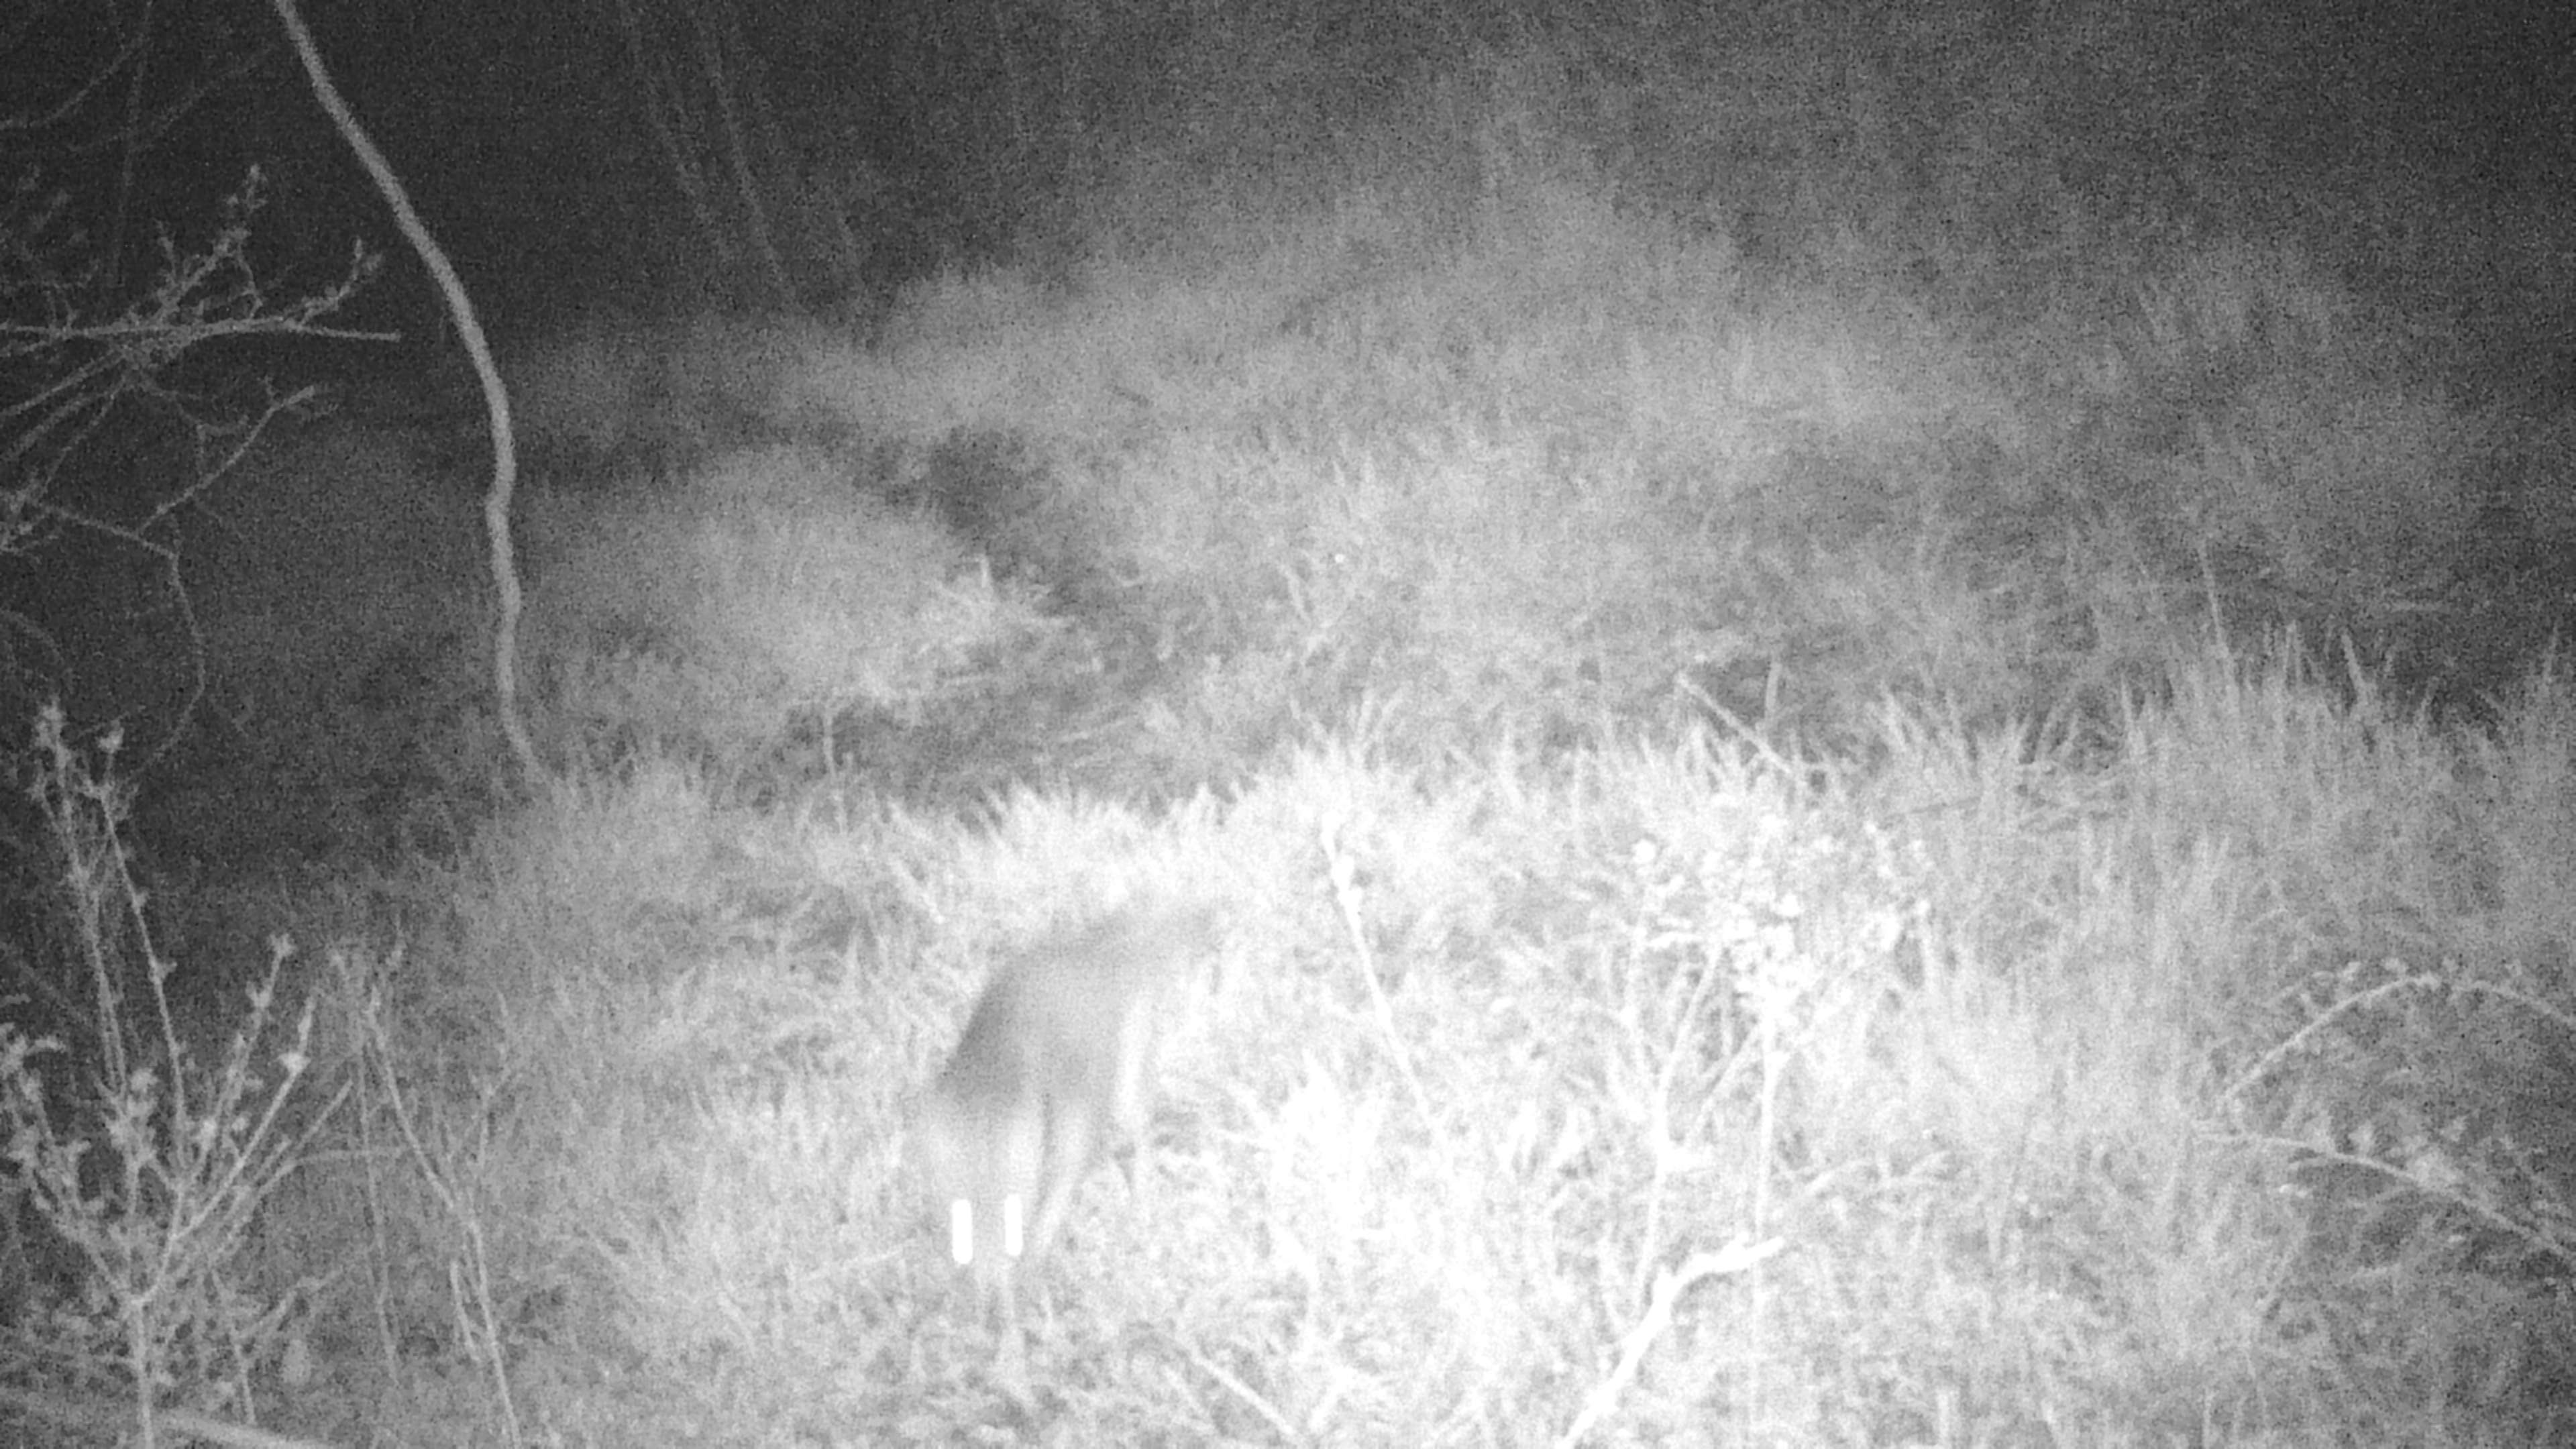Coyote: (904, 895, 1224, 1394)
